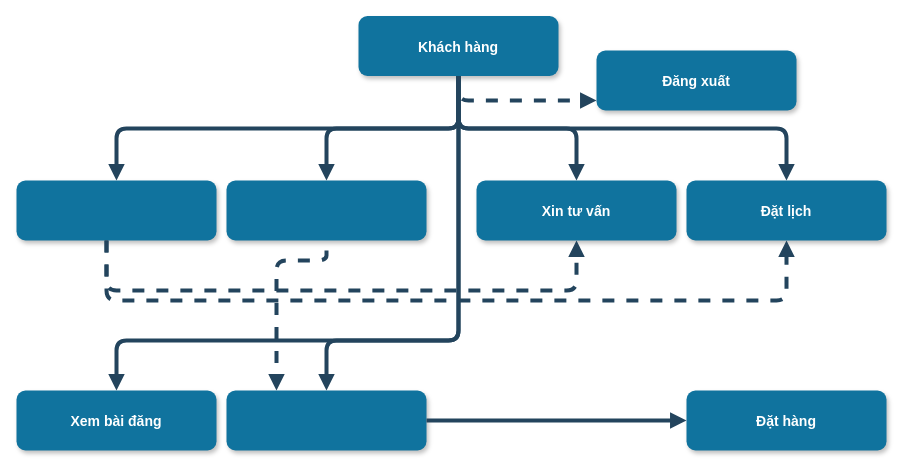
This 903x467 diagram has some shape labels left out. Here are the shapes that lost their labels. From the top down, the centre of each, then its label:
At point 117,211: "Xem thông tin về dịch vụ".
At point 327,211: "Xem sản phẩm".
At point 327,421: "Giỏ hàng".
